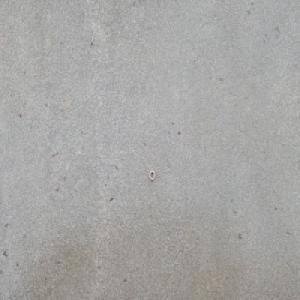Nut: (148, 169, 155, 181)
